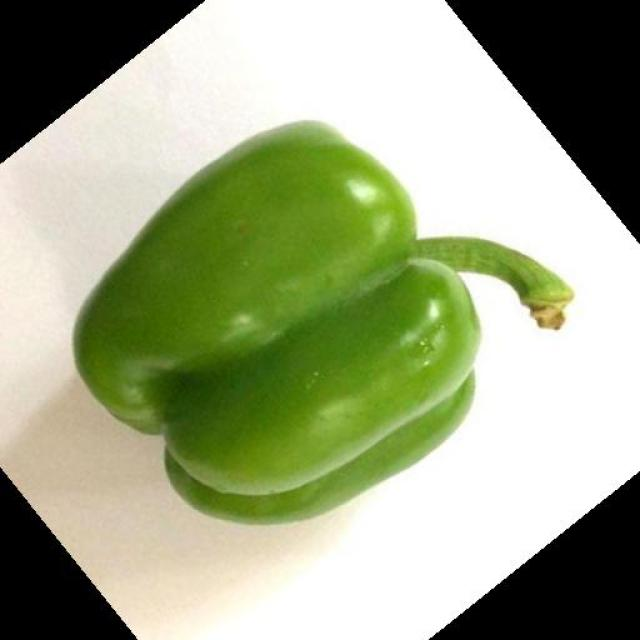Fresh_Capsicum: (84, 116, 567, 488)
